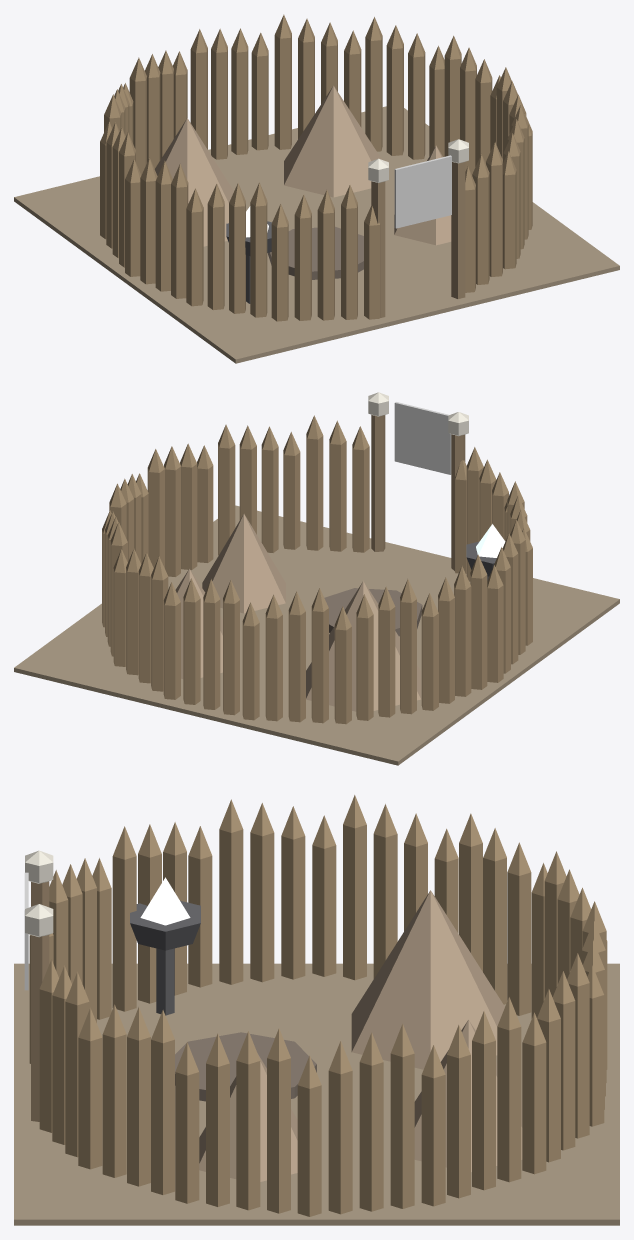
3 views of the same model, one above another, from view 1: azimuth 30°, elevation 25°; view 2: azimuth 150°, elevation 25°; view 3: azimuth 270°, elevation 25° (orthographic). The views are drawn at different scales.
Parts seen in each view (by area): view 1: body; view 2: body; view 3: body.
Boxes of the visible parts, x1,y1,x2,y2 form: body: [14, 14, 619, 363]; body: [14, 392, 619, 765]; body: [14, 795, 619, 1225].
Size of the model in its own units: 9.6 by 3.85 by 9.6.
